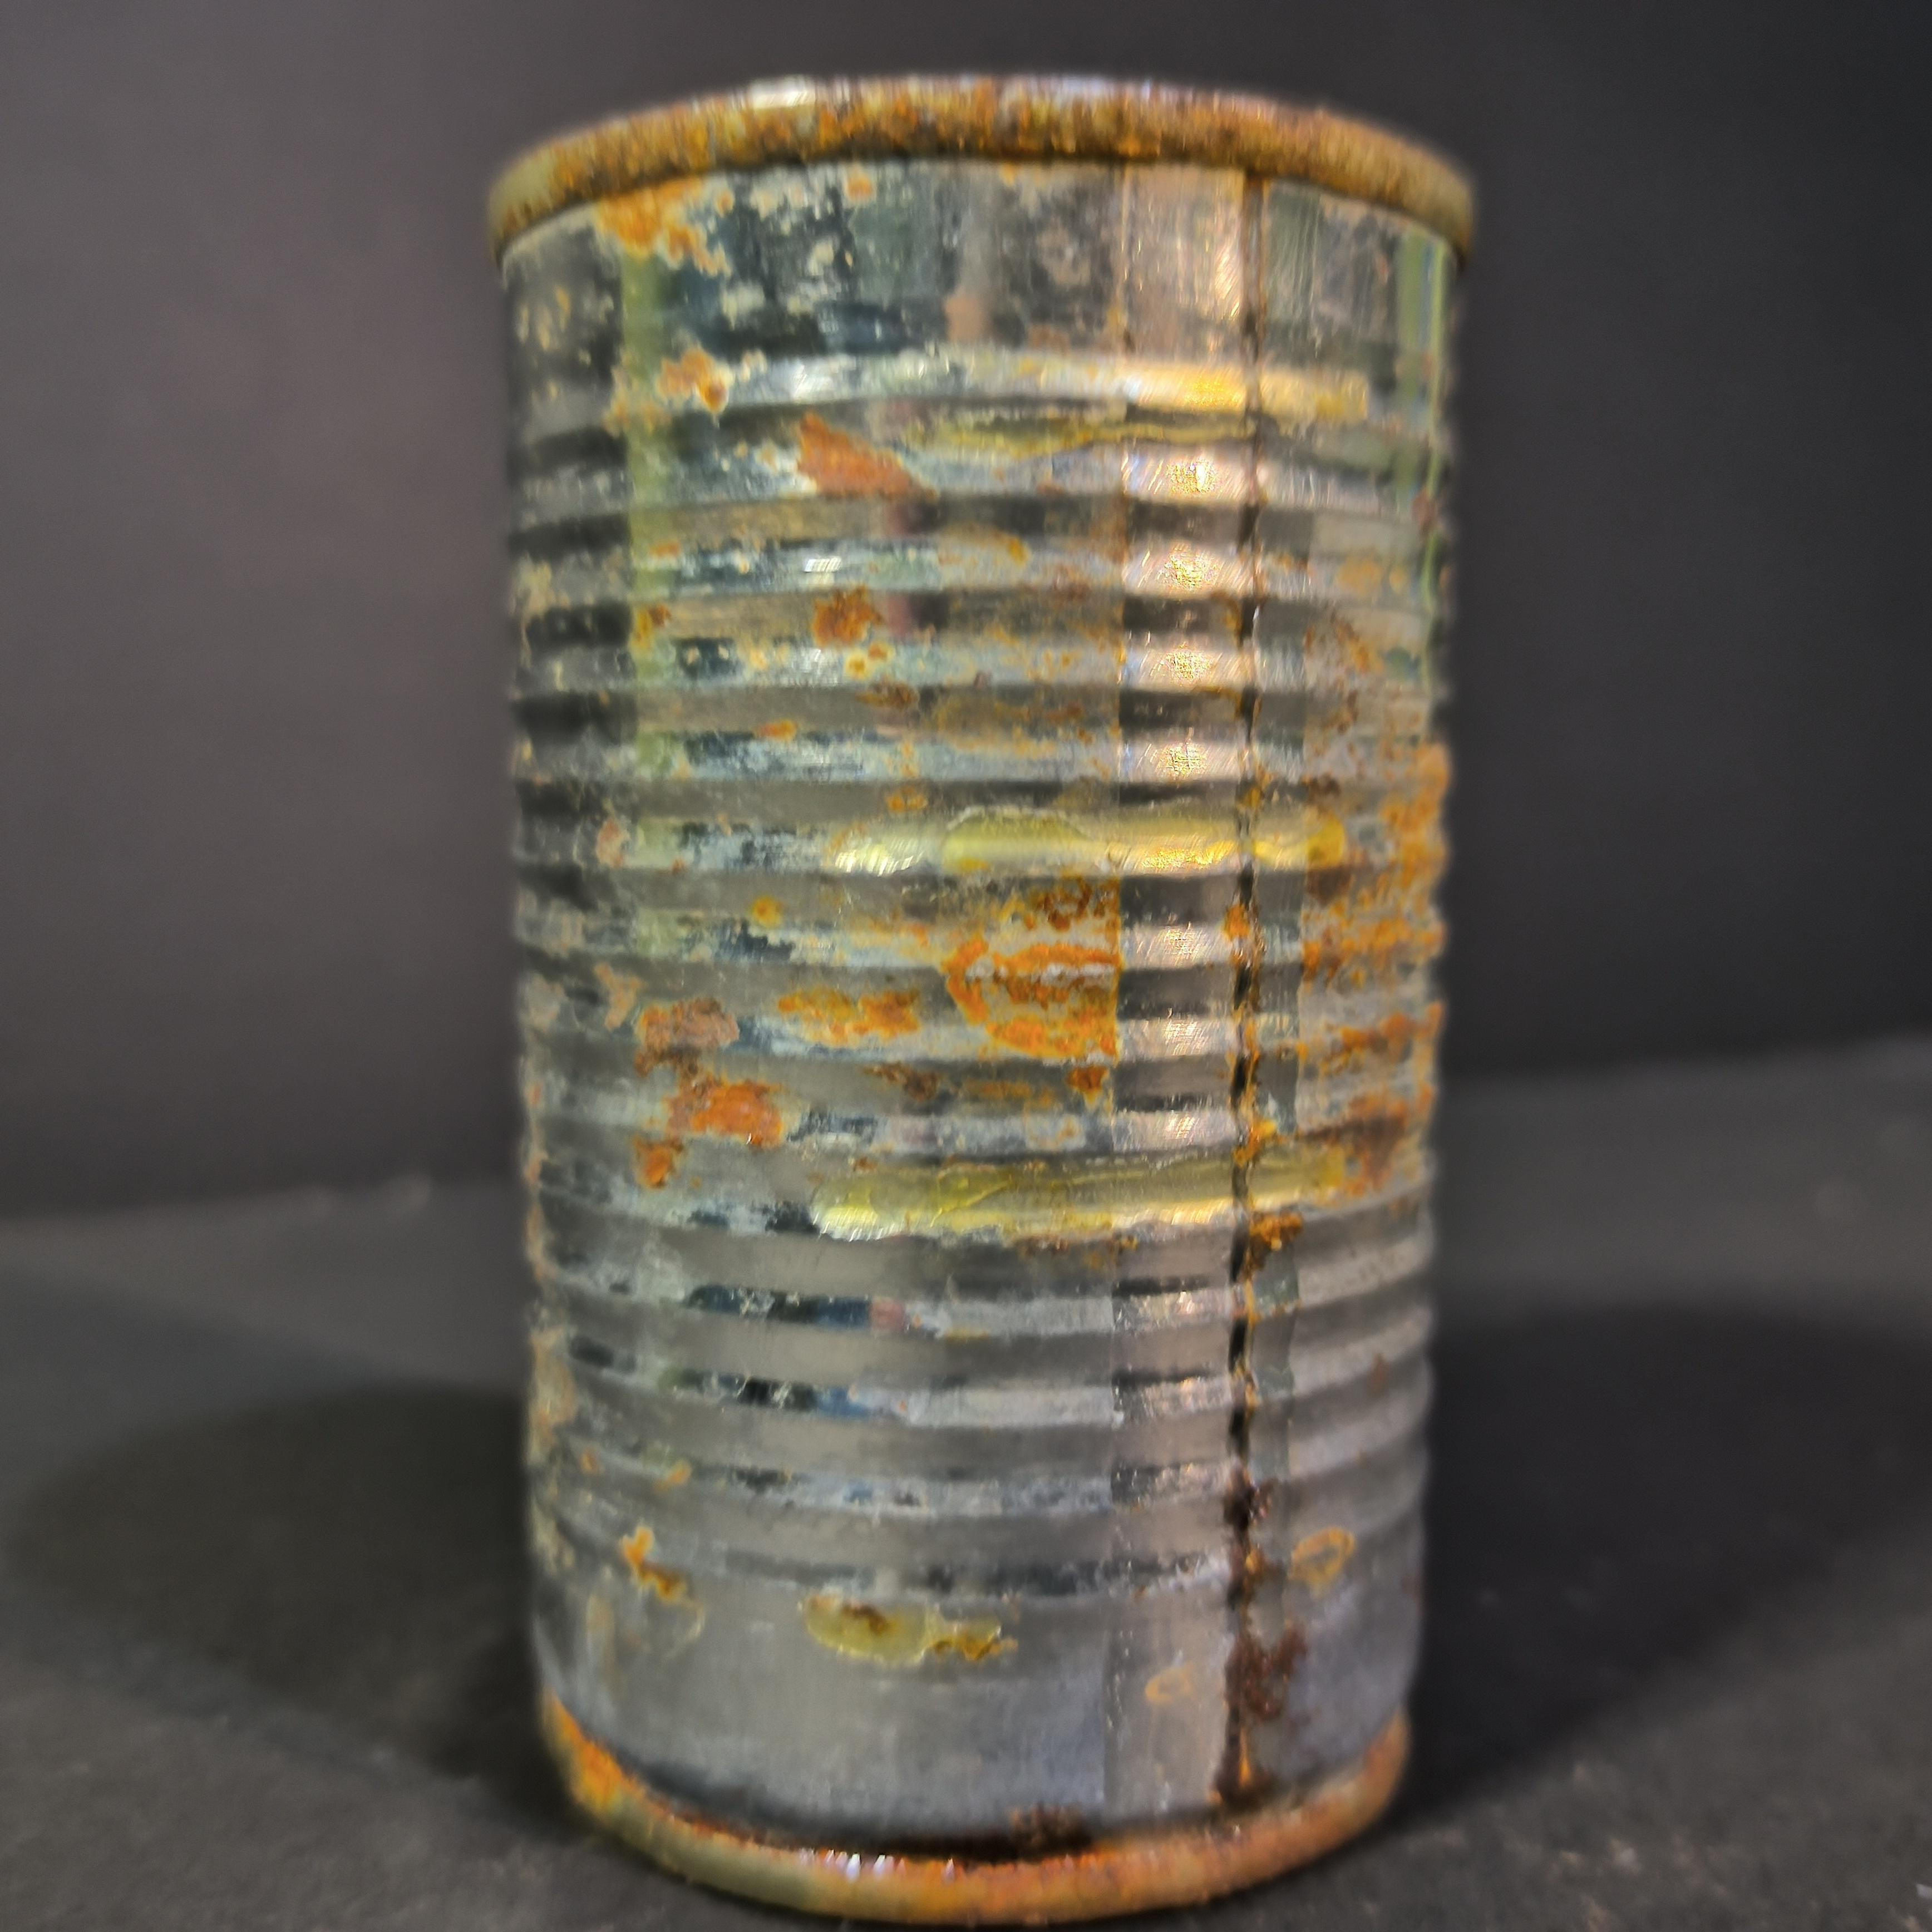Rusted: (465, 48, 1488, 1925)
